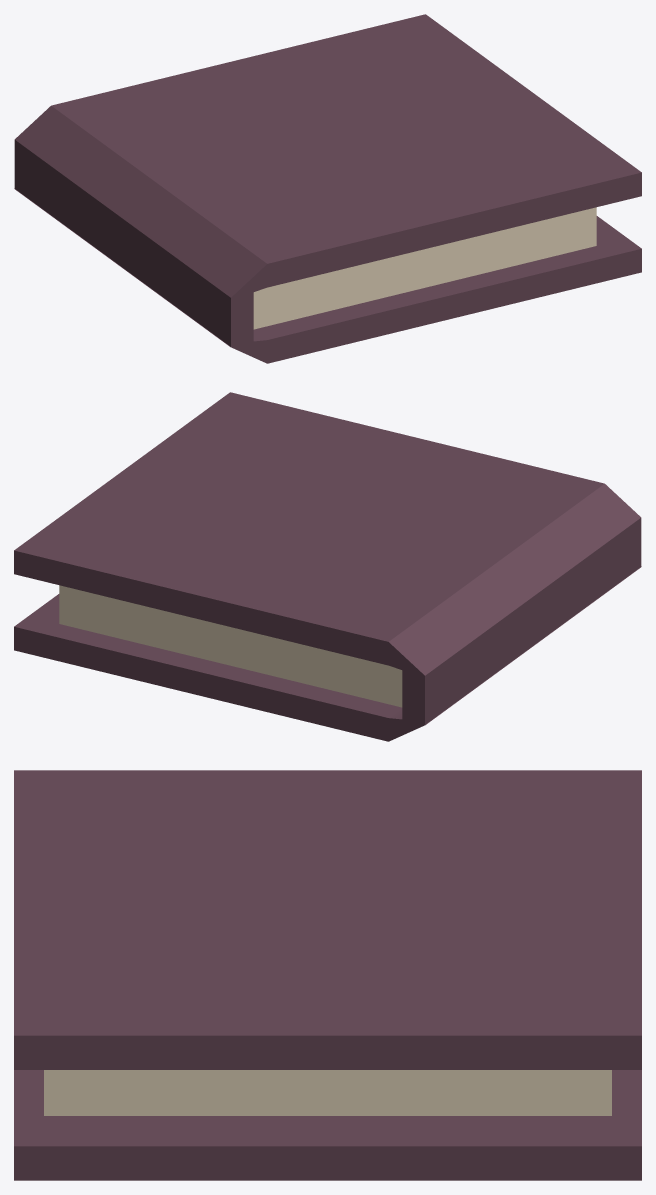
The model's file is book.fbx.
The picture shows the model from 3 angles, top to bottom: view 1: azimuth 30°, elevation 25°; view 2: azimuth 150°, elevation 25°; view 3: azimuth 270°, elevation 25°; orthographic projection. The views are drawn at different scales.
Visible parts, largest first — view 1: pasted__pCube1, pCube1, pCube2; view 2: pasted__pCube1, pCube1, pCube2; view 3: pasted__pCube1, pCube1, pCube2.
Boxes of the visible parts, x1,y1,x2,y2 form: pasted__pCube1: (14, 14, 641, 346); pCube1: (14, 188, 641, 363); pCube2: (253, 207, 596, 329); pasted__pCube1: (14, 392, 641, 724); pCube1: (14, 566, 641, 741); pCube2: (59, 585, 402, 707); pasted__pCube1: (14, 770, 641, 1069); pCube1: (14, 1070, 641, 1180); pCube2: (44, 1070, 611, 1115).
Bounding box in the file's own units: 1.1 × 0.2548 × 1.
